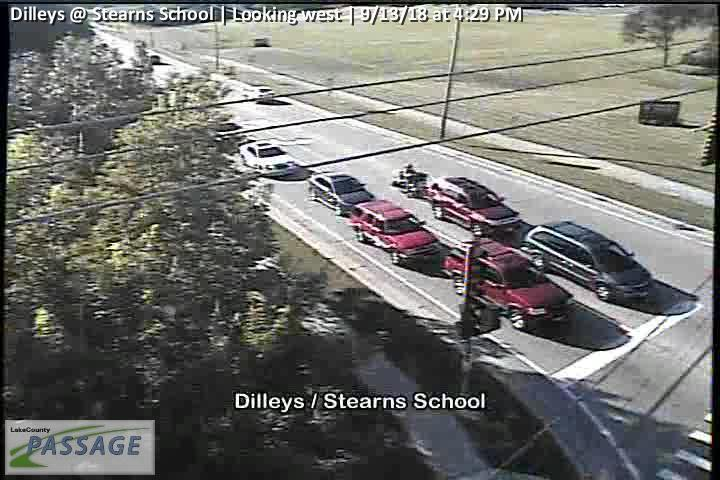Motorbike: (390, 161, 430, 199)
SUV: (442, 237, 578, 331), (351, 199, 443, 267), (428, 174, 522, 240)
Sedan: (518, 218, 654, 302), (304, 173, 375, 216), (237, 139, 299, 176)
